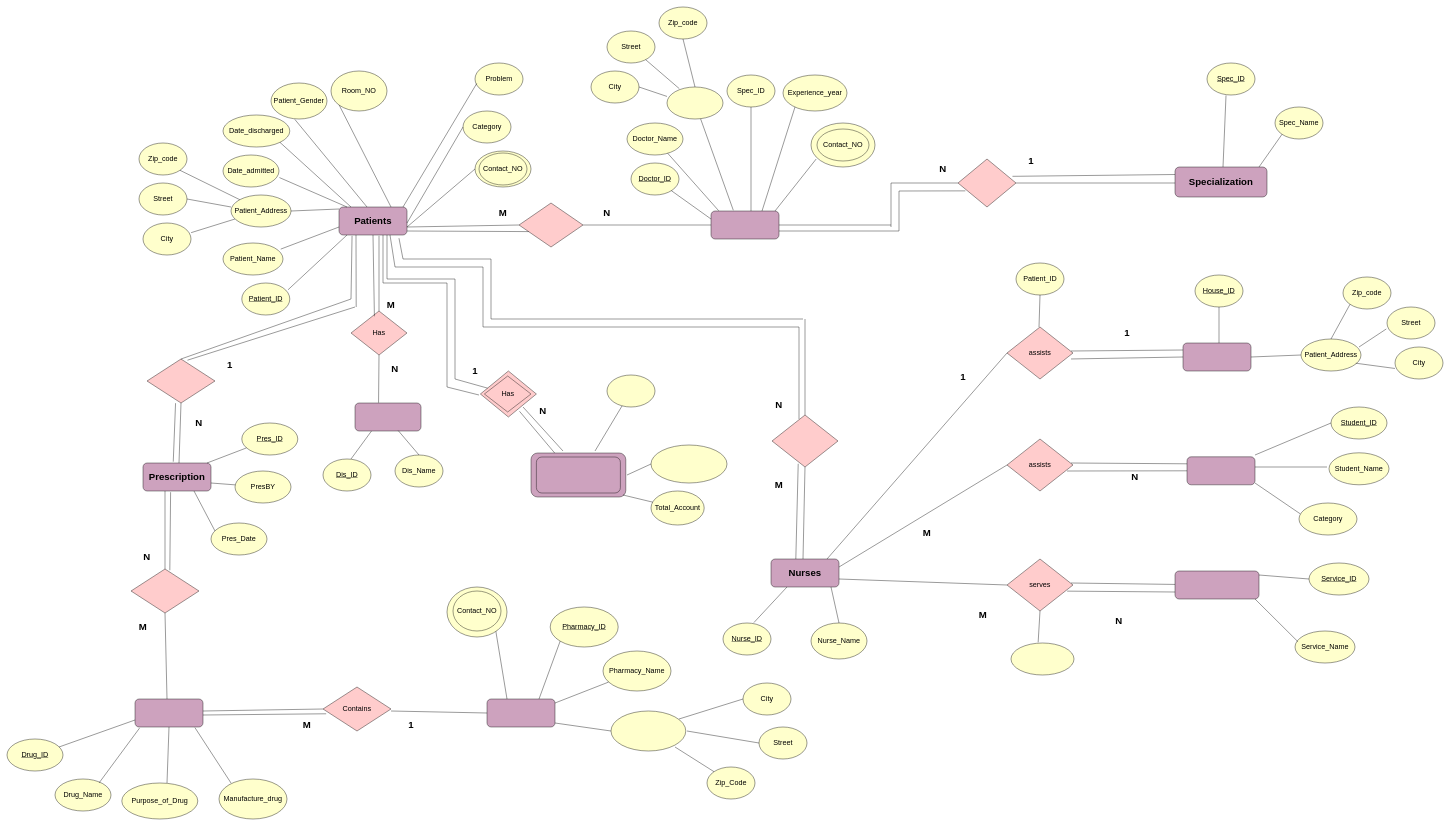
Image size: 1450x826. Some labels were removed from this diagram. The shapes that lost their labels are listed below. From the top down, each one's box as (x1, y1, x2, y2) in pixels, then its label:
(667, 87, 723, 119): Doctor_Address
(958, 159, 1016, 207): Specialized
(519, 203, 583, 247): Treats
(711, 211, 779, 239): Doctors
(1183, 343, 1251, 371): Houses
(147, 359, 215, 403): Process
(607, 375, 655, 407): Account_ID
(355, 403, 421, 431): Disease
(772, 415, 838, 467): attends
(536, 457, 620, 493): Accounts
(651, 445, 727, 483): Services_Description
(1187, 456, 1255, 485): Students
(131, 569, 199, 613): Drug_Contain
(1175, 571, 1259, 599): Social Services
(1011, 643, 1074, 675): day_of_service
(135, 699, 203, 727): Drugs
(487, 699, 555, 727): Pharmacy
(611, 711, 686, 751): Pharmacy_Address
